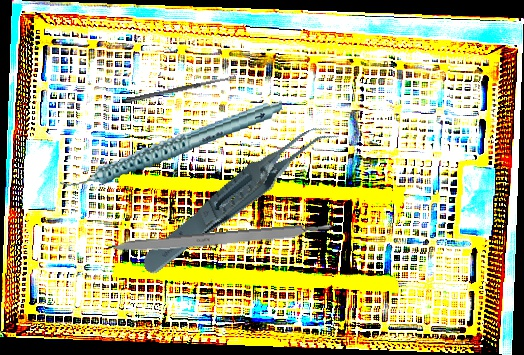Handpiece: (52, 99, 290, 191)
Scalpel Handle: (105, 222, 337, 257)
Surgical Spoon: (123, 75, 237, 104)
Tissue Forceps: (120, 120, 361, 277)
